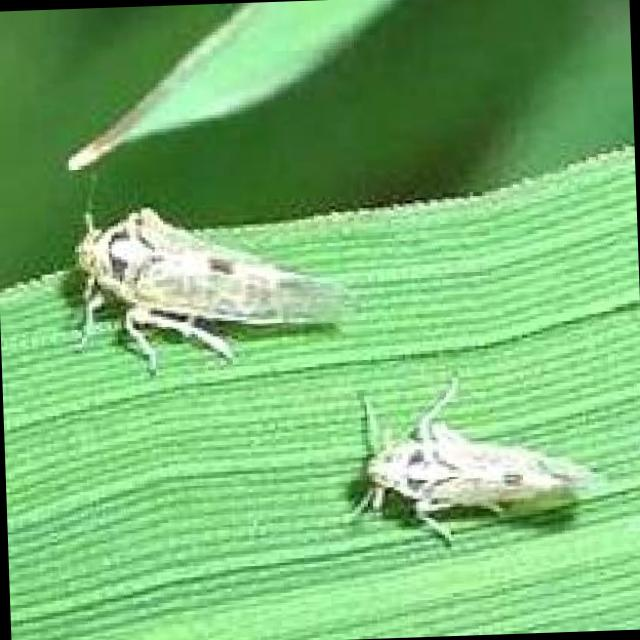brown-planthopper: (72, 197, 342, 339), (360, 420, 602, 527)
